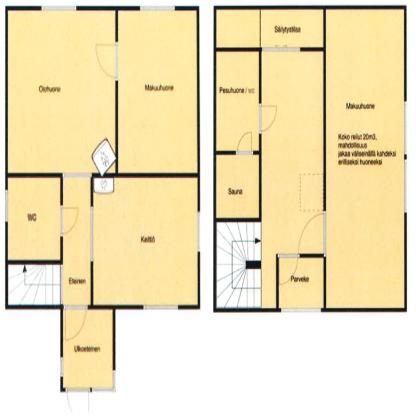door: (298, 210, 326, 255), (65, 302, 88, 342), (94, 43, 118, 79), (278, 254, 300, 287), (59, 204, 81, 235), (66, 390, 92, 416), (260, 106, 278, 133), (239, 132, 252, 156)
window: (143, 303, 178, 313), (282, 308, 322, 315), (403, 160, 407, 213), (41, 5, 76, 11), (197, 211, 202, 251), (141, 4, 173, 10), (5, 188, 10, 222), (404, 100, 406, 156), (113, 370, 116, 389), (60, 358, 63, 374)
zone: (327, 8, 404, 308), (7, 10, 115, 172), (94, 176, 197, 304), (118, 9, 197, 172), (262, 51, 322, 252), (7, 177, 60, 259), (64, 306, 115, 389), (216, 51, 258, 148), (63, 174, 92, 304), (218, 222, 260, 308), (262, 252, 323, 308), (217, 156, 258, 216), (261, 8, 322, 45), (9, 264, 60, 303), (216, 7, 261, 47)
